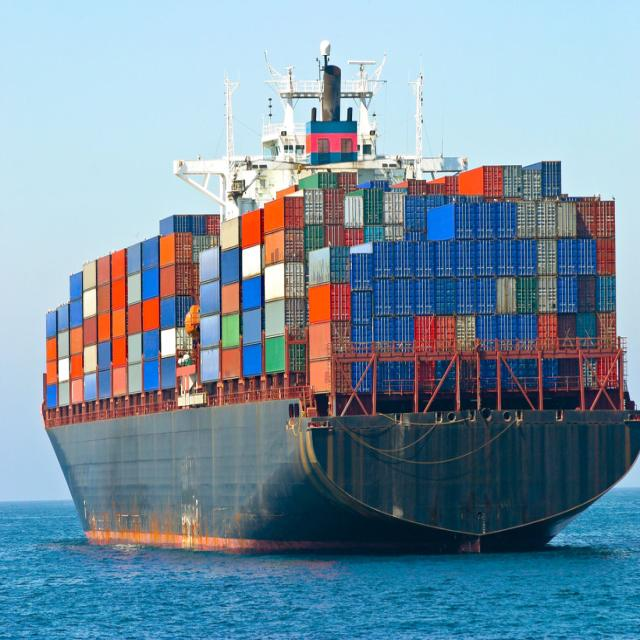cargoship: (44, 39, 630, 554)
